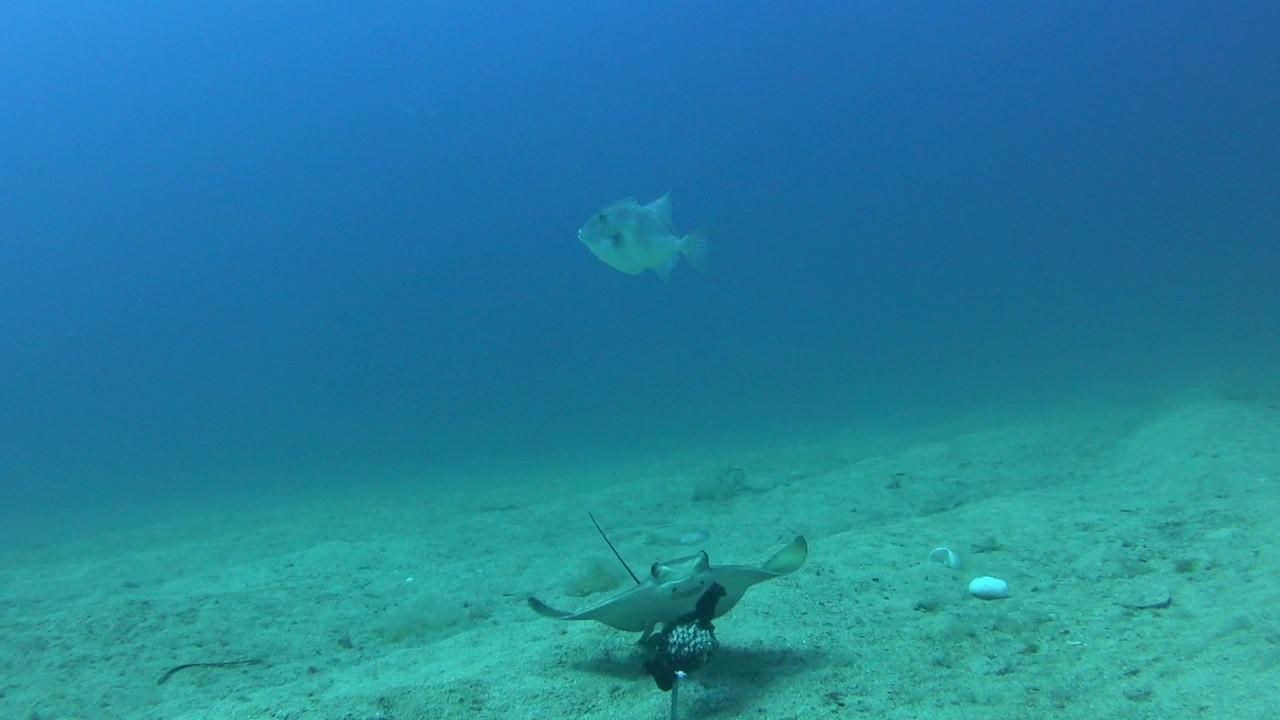balistes: (574, 184, 711, 288)
myliobatis: (496, 499, 839, 630)
